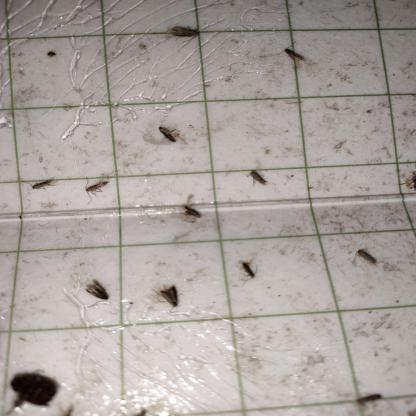prays_oleae: (167, 18, 204, 60), (157, 274, 185, 320), (81, 171, 112, 212), (351, 239, 380, 281), (81, 272, 111, 312), (155, 112, 184, 152), (238, 253, 263, 298), (24, 170, 60, 199), (280, 36, 306, 75), (356, 380, 386, 413), (249, 158, 272, 200), (181, 198, 204, 228)
